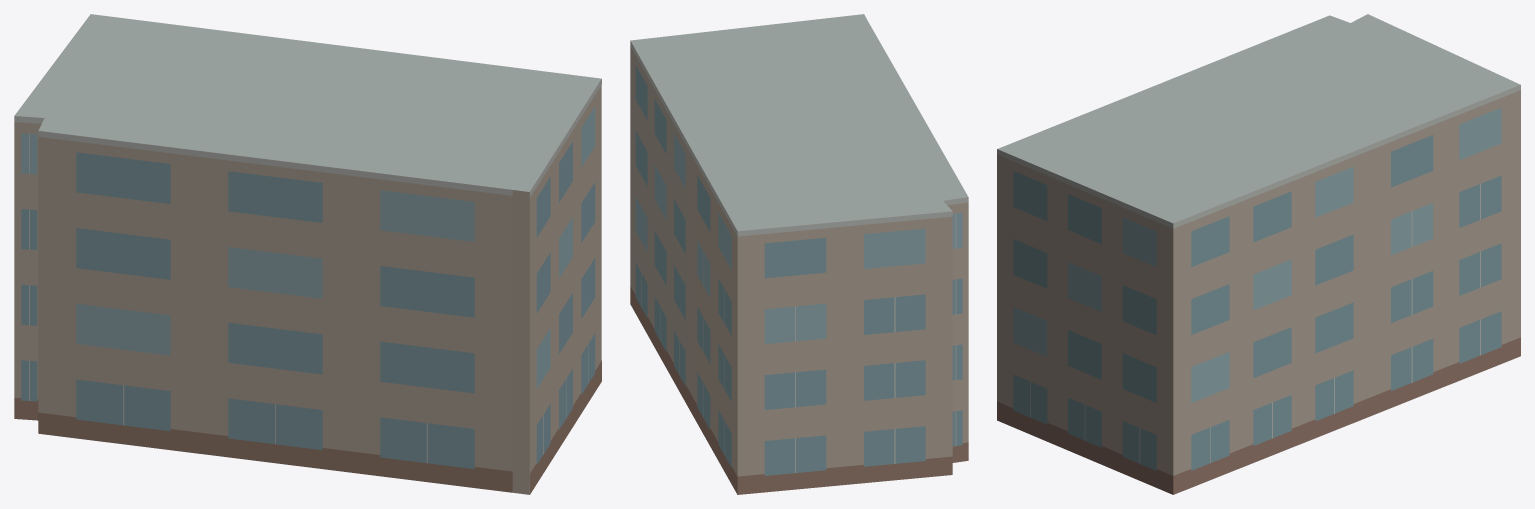
The model's file is survey-upis-32563374.glb.
3 renders of one model, left to right at view 1: azimuth 30°, elevation 25°; view 2: azimuth 150°, elevation 25°; view 3: azimuth 270°, elevation 25°, orthographic. The views are drawn at different scales.
Parts seen in each view (by area): view 1: survey-upis-32563374.tmp; view 2: survey-upis-32563374.tmp; view 3: survey-upis-32563374.tmp.
Part boxes in pixels (x1=…): survey-upis-32563374.tmp: x1=14, y1=14, x2=601, y2=494; survey-upis-32563374.tmp: x1=630, y1=14, x2=968, y2=494; survey-upis-32563374.tmp: x1=997, y1=14, x2=1520, y2=494.
Size of the model in its own units: 20.37 by 12.3 by 21.52.
